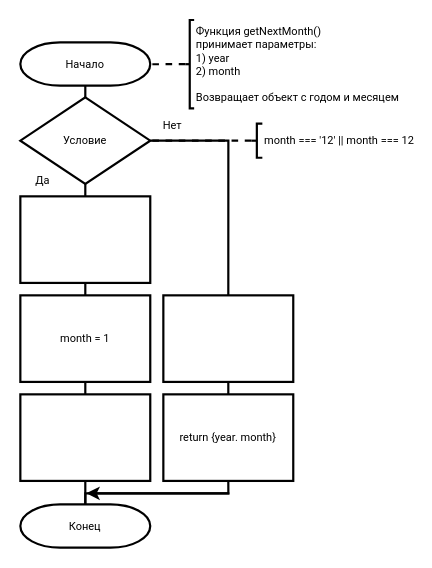
This 432x568 diagram has some shape labels left out. The centre of each missing label's shape, as x and y in pixels:
"month = Number(month) + 1" goes at point 228,338.
"return {year, month}" goes at point 85,437.
"year = Number(year) + 1" goes at point 85,239.
